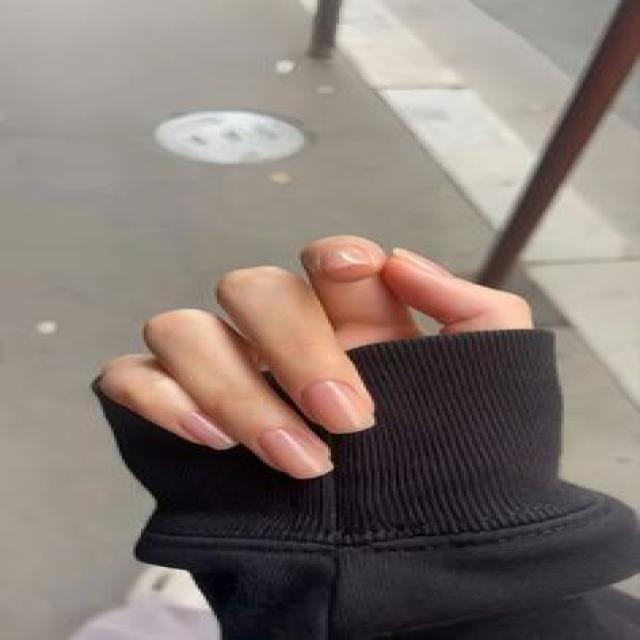Fingernail: (259, 426, 333, 478), (302, 381, 374, 433), (178, 411, 238, 450), (393, 247, 453, 280), (321, 245, 371, 271)
